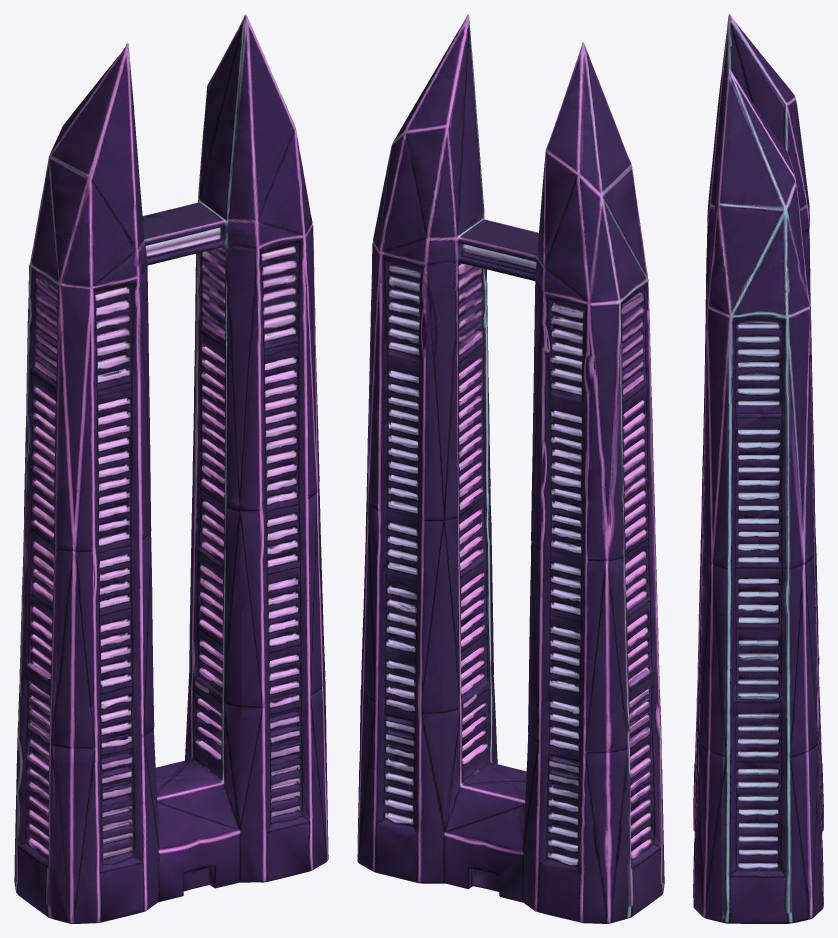
The model's file is tall-building-3.glb.
3 views of the same model, side by side, from view 1: azimuth 30°, elevation 25°; view 2: azimuth 150°, elevation 25°; view 3: azimuth 270°, elevation 25° (orthographic). The views are drawn at different scales.
Parts seen in each view (by area): view 1: mesh_node; view 2: mesh_node; view 3: mesh_node.
Boxes of the visible parts, x1,y1,x2,y2 form: mesh_node: (14, 14, 328, 923); mesh_node: (357, 14, 664, 923); mesh_node: (693, 14, 823, 923).
Bounding box in the file's own units: 21314 × 62395 × 9049.
1 material, 1 textured.
